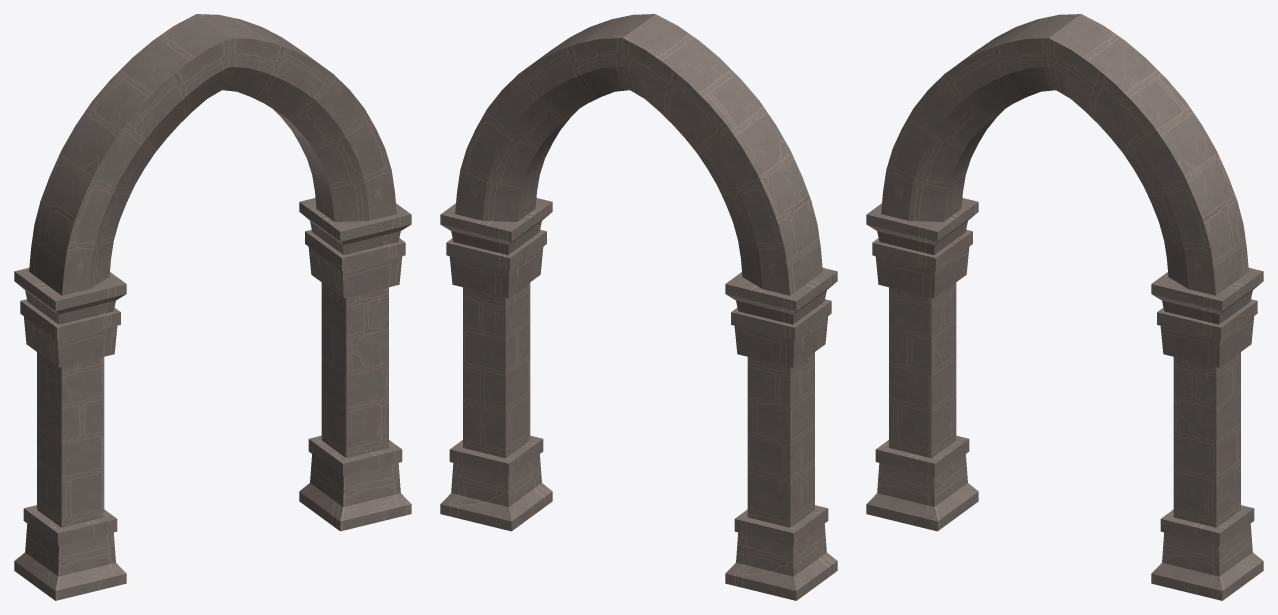
The model's file is Arch_A.fbx.
3 renders of one model, left to right at view 1: azimuth 30°, elevation 25°; view 2: azimuth 150°, elevation 25°; view 3: azimuth 330°, elevation 25°, orthographic.
Visible parts, largest first — view 1: Arch_A; view 2: Arch_A; view 3: Arch_A.
Boxes of the visible parts, <box> form: Arch_A: <box>14,14,411,600</box>; Arch_A: <box>440,14,837,600</box>; Arch_A: <box>866,14,1263,600</box>.
Size of the model in its own units: 250 by 346 by 50.
